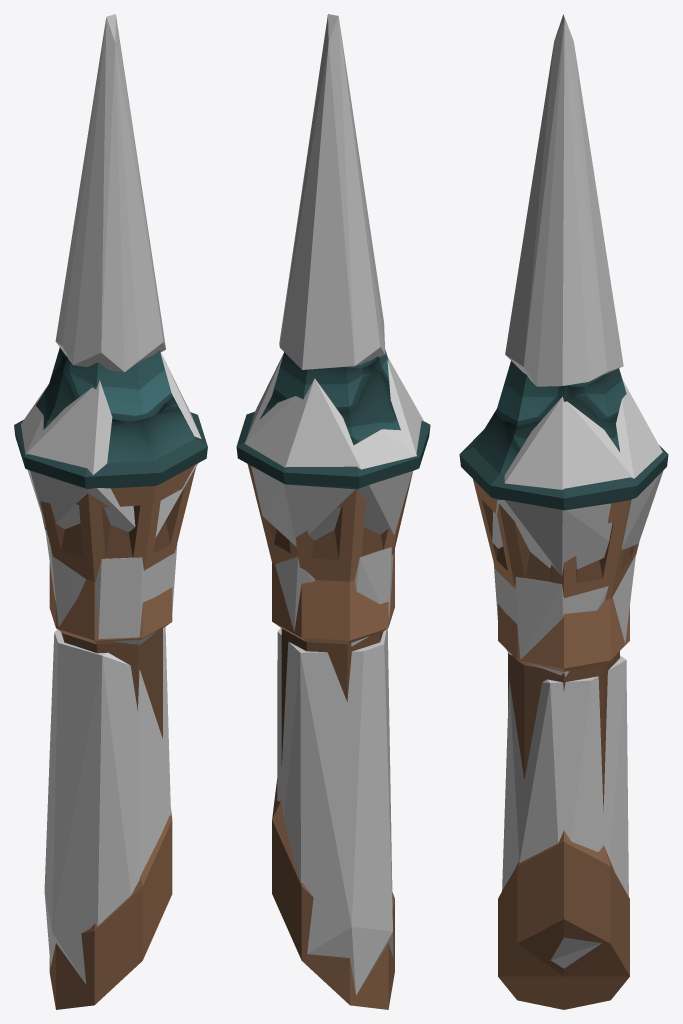
File: SM_Bld_Chimney_01.fbx
3 views of the same model, side by side, from view 1: azimuth 30°, elevation 25°; view 2: azimuth 150°, elevation 25°; view 3: azimuth 270°, elevation 25° (orthographic). The views are drawn at different scales.
Parts seen in each view (by area): view 1: SM_Bld_Chimney_01_ConvexHulls, SM_Bld_Chimney_01; view 2: SM_Bld_Chimney_01_ConvexHulls, SM_Bld_Chimney_01; view 3: SM_Bld_Chimney_01_ConvexHulls, SM_Bld_Chimney_01.
Part boxes in pixels (x1,y1,x2,y2): SM_Bld_Chimney_01_ConvexHulls: (21,14,201,984); SM_Bld_Chimney_01: (14,347,207,1009); SM_Bld_Chimney_01_ConvexHulls: (244,14,423,995); SM_Bld_Chimney_01: (236,350,430,1009); SM_Bld_Chimney_01_ConvexHulls: (492,14,663,968); SM_Bld_Chimney_01: (459,361,668,1009).
Bounding box in the file's own units: 51.1 × 51.1 × 276.
3 materials, 2 textured.
